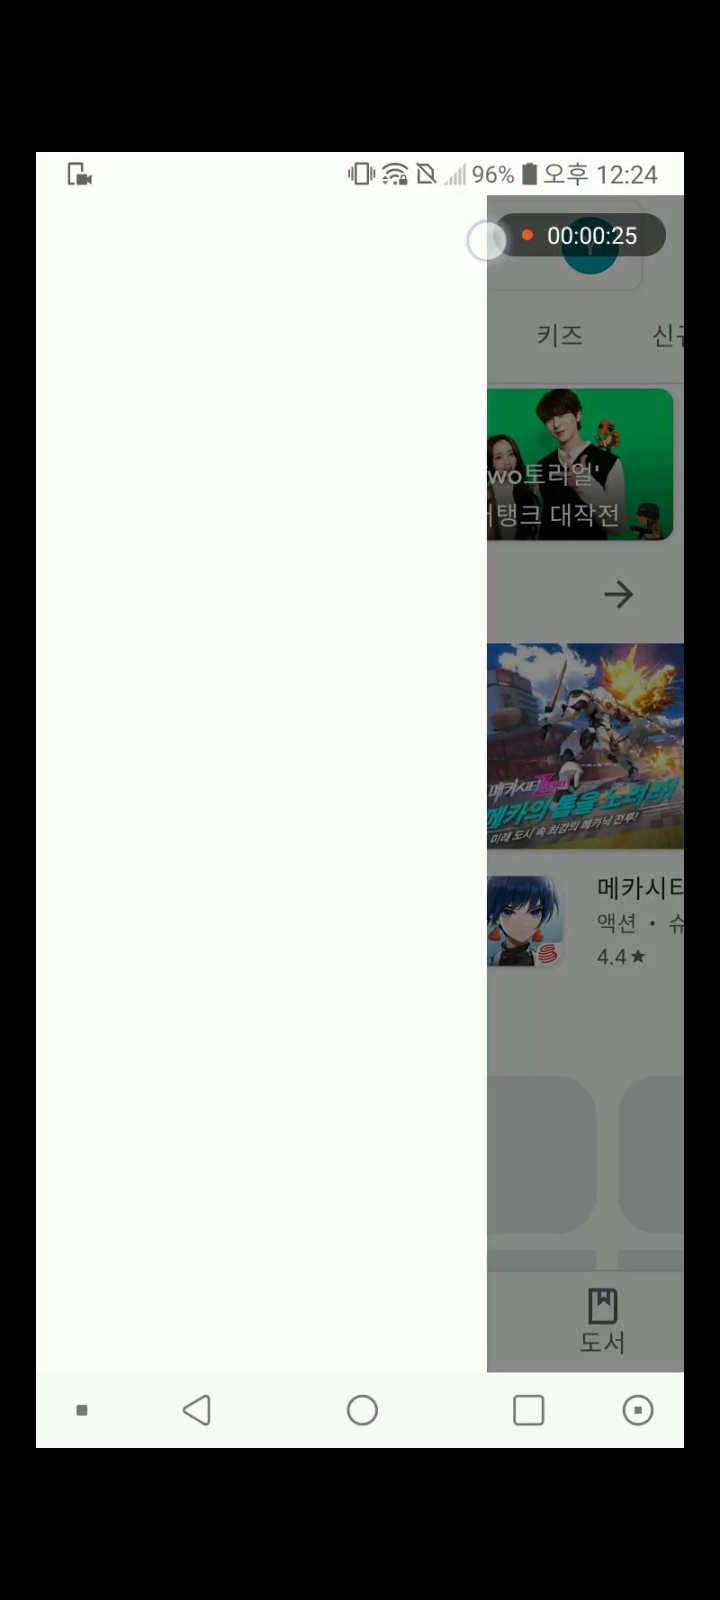Cursor: (465, 216, 510, 262)
